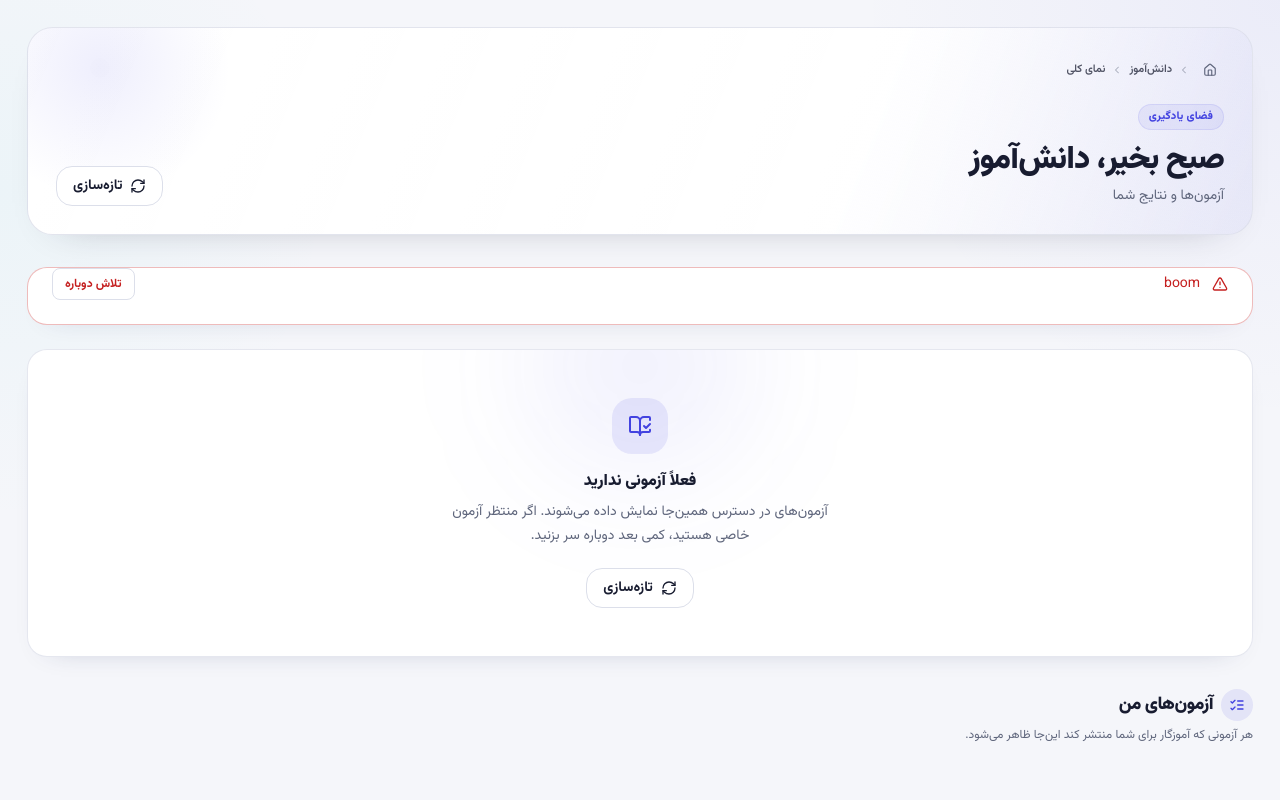
Test: StudentDashboardWorkspace › keeps a failed load recoverable
expect the text "boom" is shown: met, box [1164,273,1200,295]
Click the button "تلاش دوباره" at x=93, y=284, box [52,268,134,300]
(page scrolled)
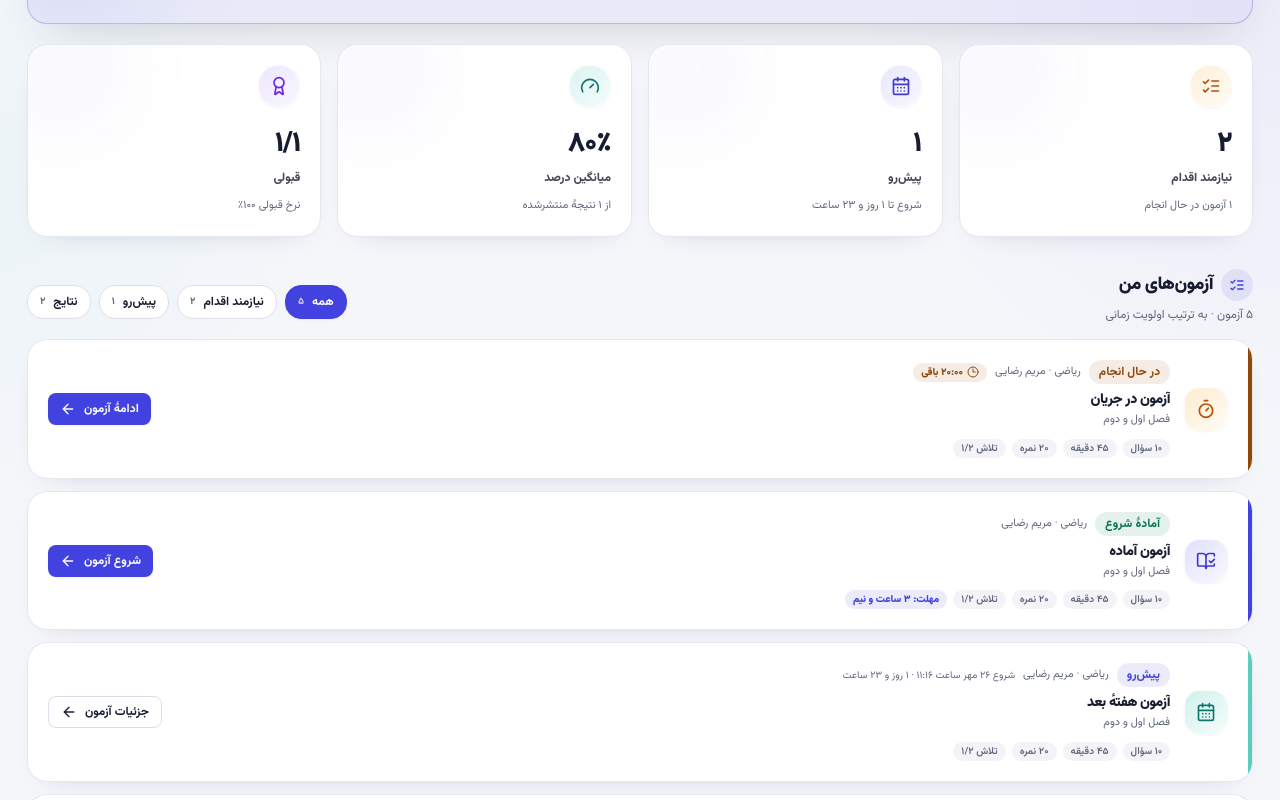
expect the heading "آزمون در جریان" is shown: met, box [1090,389,1170,411]
